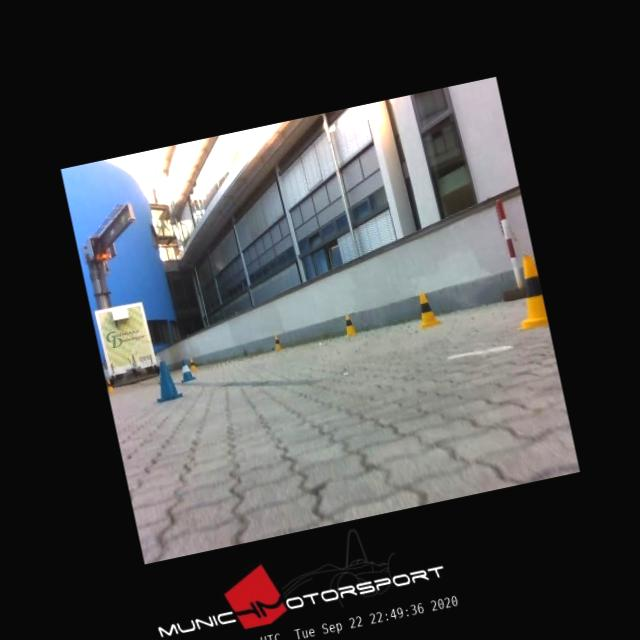blue_cone: (148, 359, 182, 402), (178, 358, 195, 381)
yellow_cone: (507, 255, 548, 329), (412, 290, 440, 328), (342, 313, 356, 336), (105, 378, 115, 392), (188, 357, 197, 371), (273, 336, 282, 350)
